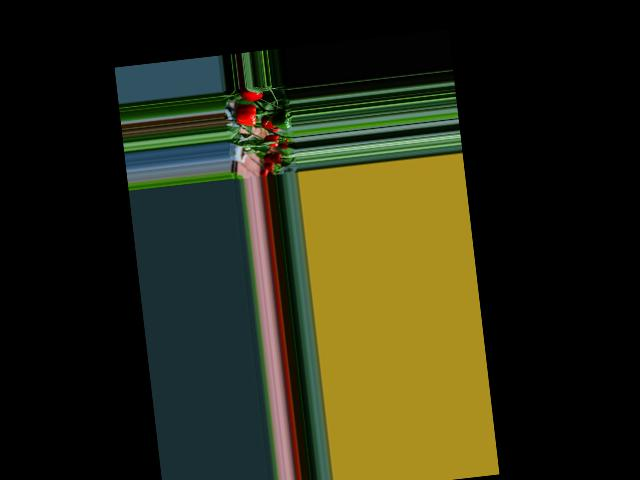bell_pepper: (259, 133, 283, 149)
